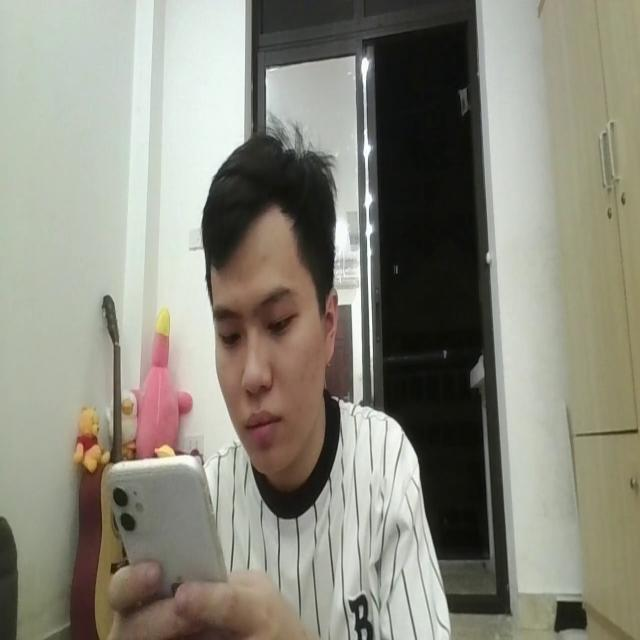phone: (106, 452, 232, 609)
student: (102, 126, 451, 640)
